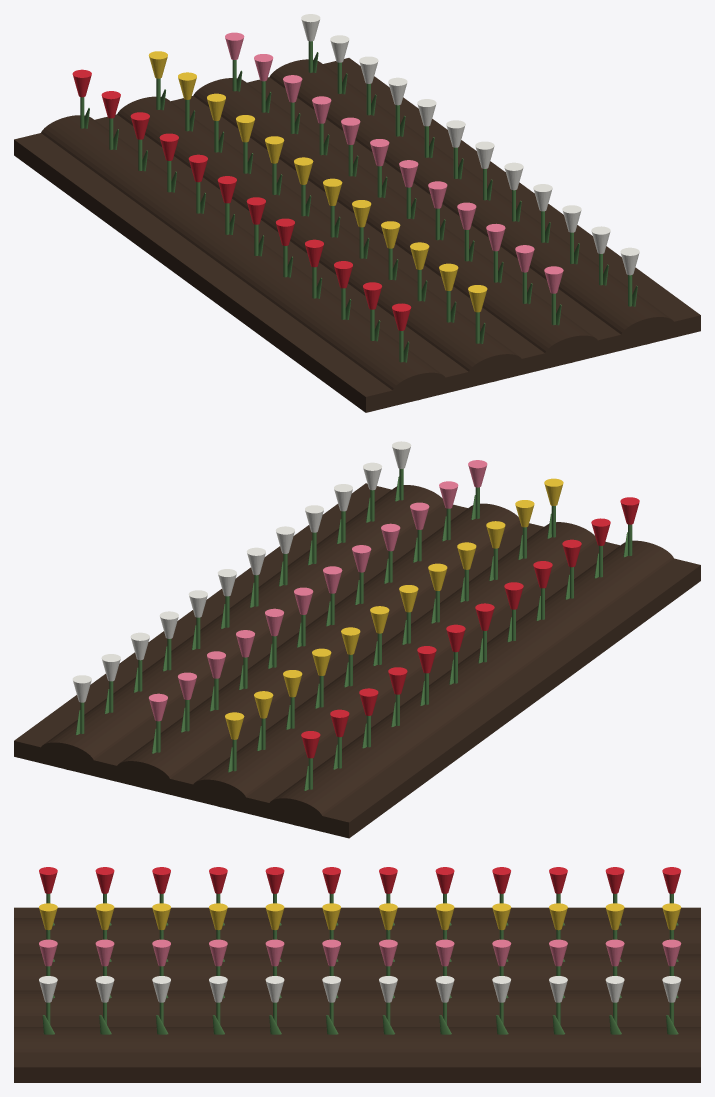
File: tulip-field-rows.glb
3 renders of one model, top to bottom at view 1: azimuth 30°, elevation 25°; view 2: azimuth 150°, elevation 25°; view 3: azimuth 270°, elevation 25°, orthographic. The views are drawn at different scales.
Visible parts, largest first — view 1: Cube, Cylinder, Cylinder.026, Cylinder.013, Cylinder.039; view 2: Cube, Cylinder, Cylinder.026, Cylinder.013, Cylinder.039; view 3: Cube, Cylinder.039, Cylinder.026, Cylinder.013, Cylinder, Cone.056, Cone.064, Cone.070, Cone.028, Cone.048, Cone.050, Cone.062 (+41 smaller).
Boxes of the visible parts, <box> form: Cube: <box>14,58,700,412</box>; Cylinder: <box>41,115,446,401</box>; Cylinder.026: <box>193,78,598,364</box>; Cylinder.013: <box>117,96,522,382</box>; Cylinder.039: <box>269,59,674,345</box>; Cube: <box>14,483,700,838</box>; Cylinder: <box>268,540,673,827</box>; Cylinder.026: <box>116,503,519,789</box>; Cylinder.013: <box>193,522,596,808</box>; Cylinder.039: <box>40,485,443,771</box>; Cube: <box>14,907,700,1082</box>; Cylinder.039: <box>14,1027,700,1054</box>; Cylinder.026: <box>14,990,700,1018</box>; Cylinder.013: <box>14,954,700,981</box>; Cylinder: <box>14,918,700,945</box>; Cone.056: <box>265,939,284,966</box>; Cone.064: <box>492,939,511,966</box>; Cone.070: <box>662,939,681,966</box>; Cone.028: <box>152,903,170,930</box>; Cone.048: <box>39,939,57,966</box>; Cone.050: <box>95,939,114,966</box>; Cone.062: <box>435,939,454,966</box>.
Size of the model in its own units: 2.2 by 0.4998 by 4.
